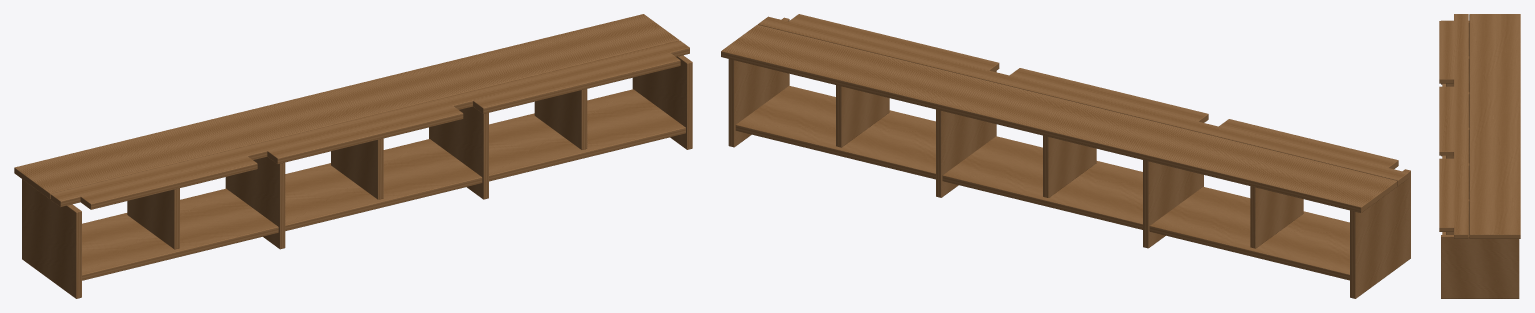
3 renders of one model, left to right at view 1: azimuth 30°, elevation 25°; view 2: azimuth 150°, elevation 25°; view 3: azimuth 270°, elevation 25°, orthographic. The views are drawn at different scales.
Visible parts, largest first — view 1: T01-01, T02-01, S01-02, S01-03, S01-01, L01-01, L01-02, L01-03, L01-04, D01-03, D01-02, D01-01; view 2: T01-01, T02-01, S01-01, S01-03, S01-02, L01-01, L01-04, L01-02, L01-03, D01-01, D01-02, D01-03; view 3: T01-01, T02-01, L01-04, D01-01, D01-02, D01-03, L01-01, L01-02, L01-03.
Boxes of the visible parts, x1,y1,x2,y2 form: T01-01: [14, 14, 679, 199]; T02-01: [50, 40, 689, 209]; S01-02: [285, 139, 482, 230]; S01-03: [489, 89, 685, 181]; S01-01: [82, 188, 278, 280]; L01-01: [22, 179, 81, 298]; L01-02: [225, 157, 285, 249]; L01-03: [429, 106, 488, 199]; L01-04: [632, 55, 692, 149]; D01-03: [534, 89, 587, 149]; D01-02: [331, 138, 383, 199]; D01-01: [127, 188, 179, 249]; T01-01: [721, 24, 1397, 212]; T02-01: [758, 14, 1408, 185]; S01-01: [1149, 186, 1349, 280]; S01-03: [735, 85, 935, 179]; S01-02: [942, 136, 1142, 229]; L01-01: [1350, 169, 1410, 298]; L01-04: [728, 17, 789, 147]; L01-02: [1143, 160, 1203, 248]; L01-03: [936, 71, 996, 197]; D01-01: [1250, 186, 1303, 248]; D01-02: [1043, 135, 1096, 197]; D01-03: [836, 85, 889, 147]; T01-01: [1469, 14, 1520, 238]; T02-01: [1439, 14, 1468, 238]; L01-04: [1441, 235, 1519, 298]; D01-01: [1446, 56, 1469, 91]; D01-02: [1446, 128, 1469, 162]; D01-03: [1446, 199, 1469, 234]; L01-01: [1441, 20, 1469, 84]; L01-02: [1441, 92, 1469, 156]; L01-03: [1468, 163, 1469, 198].
Bounding box in the file's own units: 6 × 0.845 × 0.9375.
Materials: 1 (1 with a texture image).
